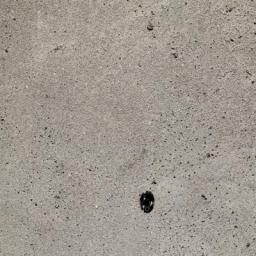FOD: (135, 187, 160, 221)
